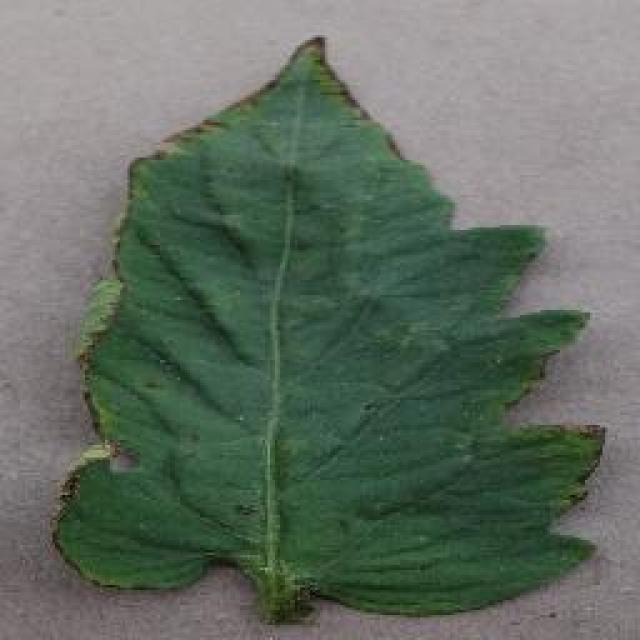Tomato___Bacterial_spot: (47, 33, 613, 630)
